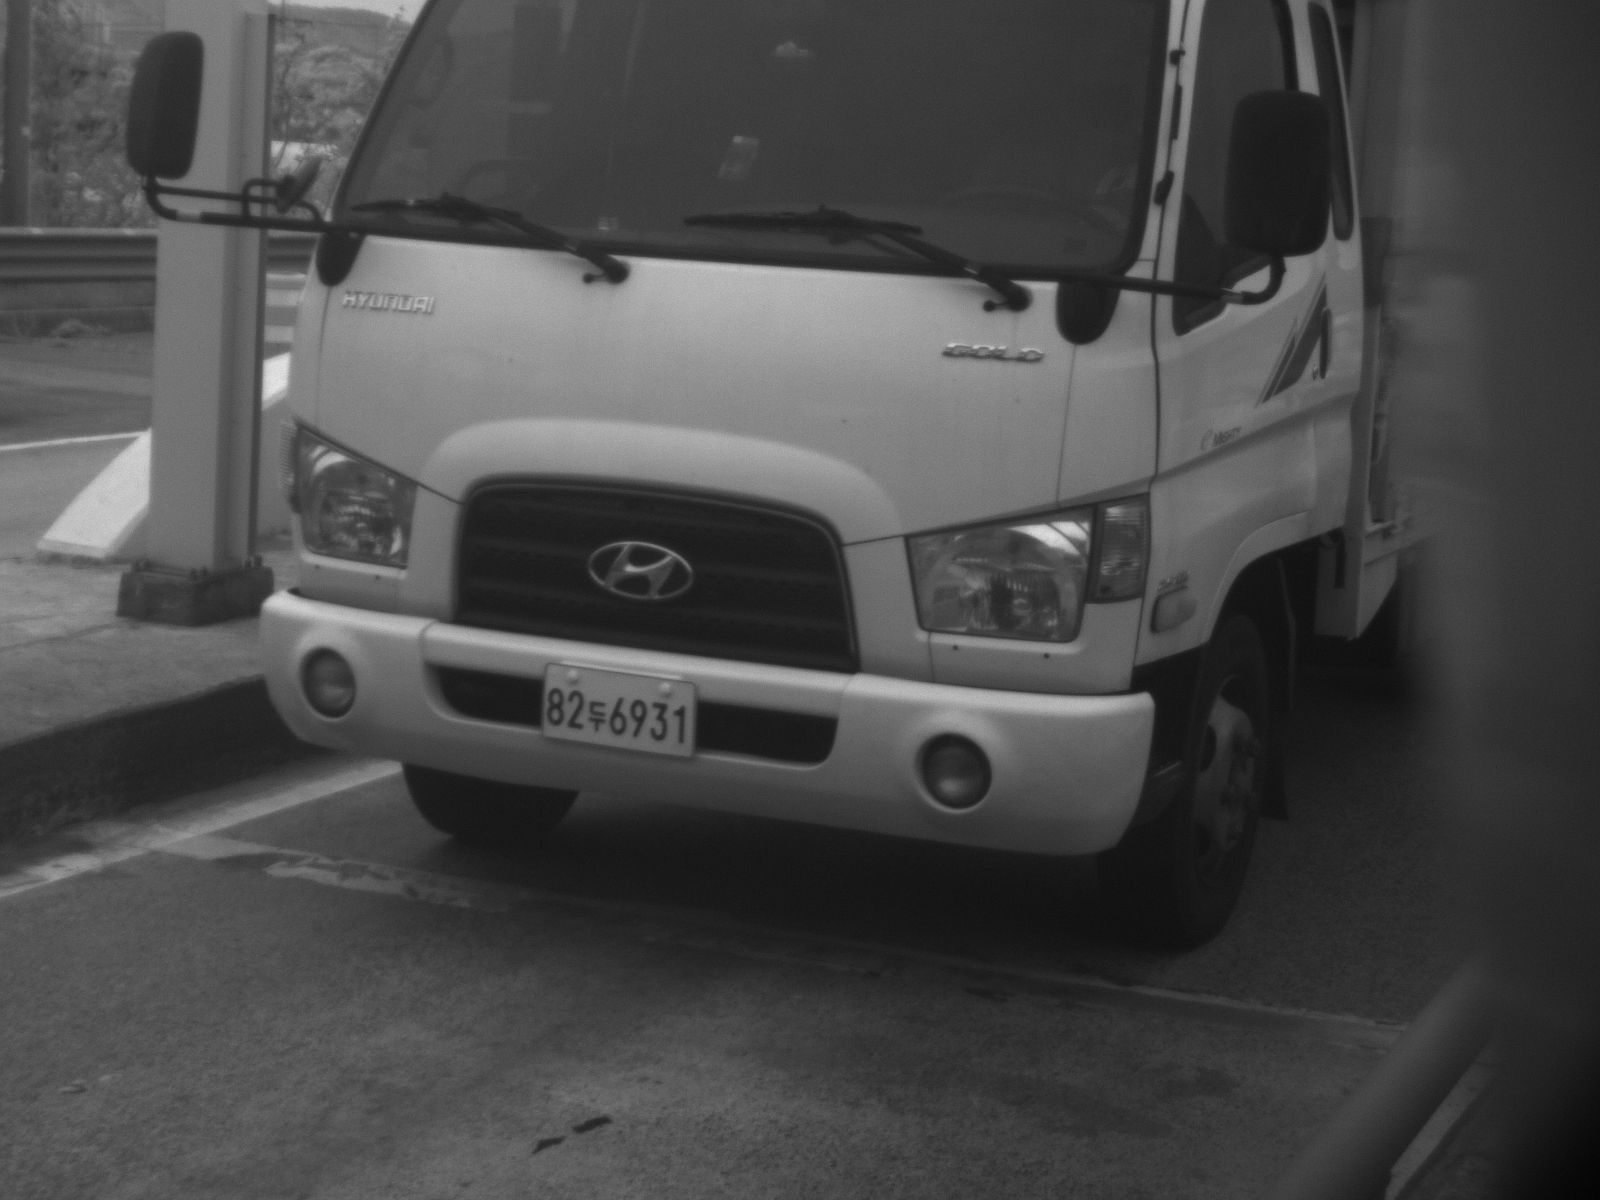car: (119, 1, 1450, 963)
plate: (540, 660, 697, 762)
